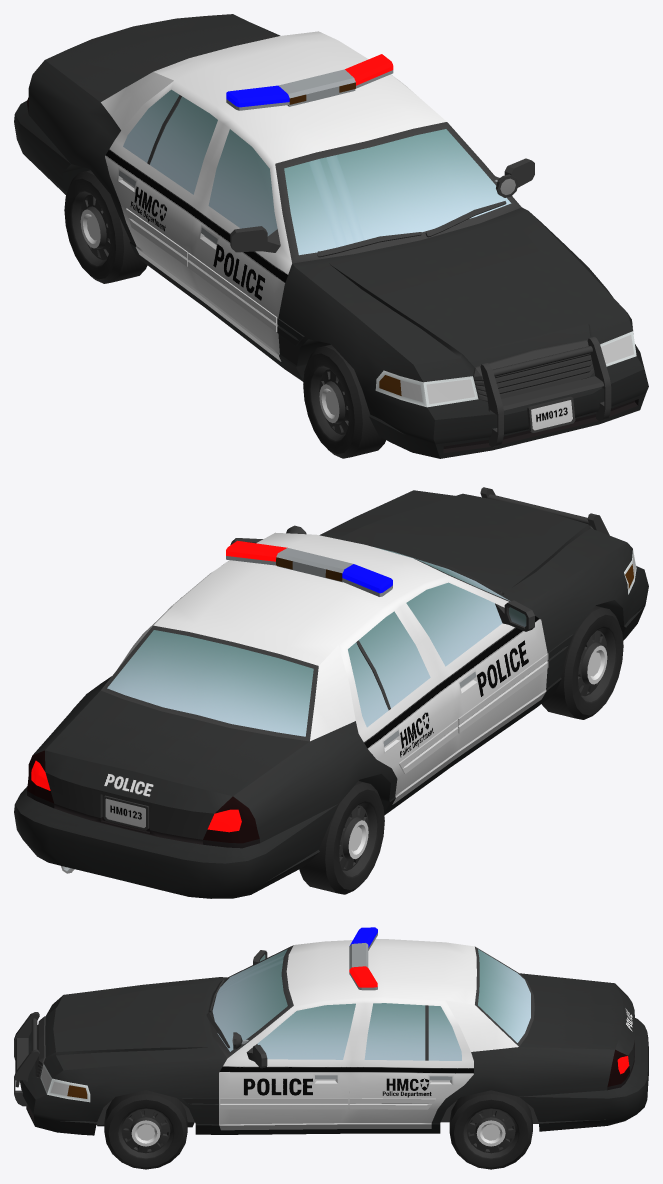
File: Police_stylized.fbx
3 renders of one model, top to bottom at view 1: azimuth 30°, elevation 25°; view 2: azimuth 150°, elevation 25°; view 3: azimuth 270°, elevation 25°, orthographic. The views are drawn at different scales.
Parts seen in each view (by area): view 1: Police_S, PS_WheelFR, PS_Wheels_B, PoliceS_light; view 2: Police_S, PS_Wheels_B, PS_WheelFR, PoliceS_light; view 3: Police_S, PS_WheelFL, PS_Wheels_B, PoliceS_light.
Part boxes in pixels (left/top/right/bottom): Police_S: left=14, top=14, right=648, bottom=458; PS_WheelFR: left=303, top=344, right=385, bottom=458; PS_Wheels_B: left=64, top=170, right=147, bottom=283; PoliceS_light: left=226, top=54, right=393, bottom=110; Police_S: left=14, top=487, right=648, bottom=898; PS_Wheels_B: left=299, top=781, right=384, bottom=894; PS_WheelFR: left=542, top=606, right=623, bottom=719; PoliceS_light: left=226, top=540, right=392, bottom=596; Police_S: left=14, top=939, right=648, bottom=1135; PS_WheelFL: left=104, top=1090, right=187, bottom=1169; PS_Wheels_B: left=449, top=1090, right=532, bottom=1169; PoliceS_light: left=349, top=927, right=377, bottom=990.
Bounding box in the file's own units: 84.97 × 62.79 × 213.
